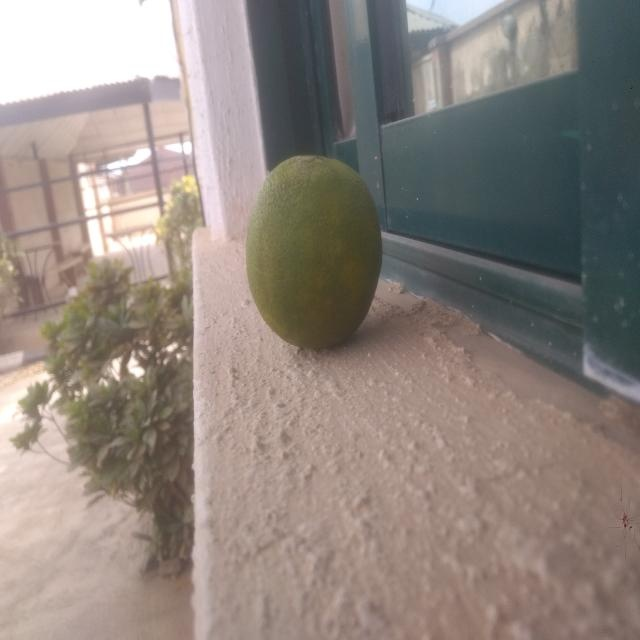agrume: (235, 133, 408, 379)
